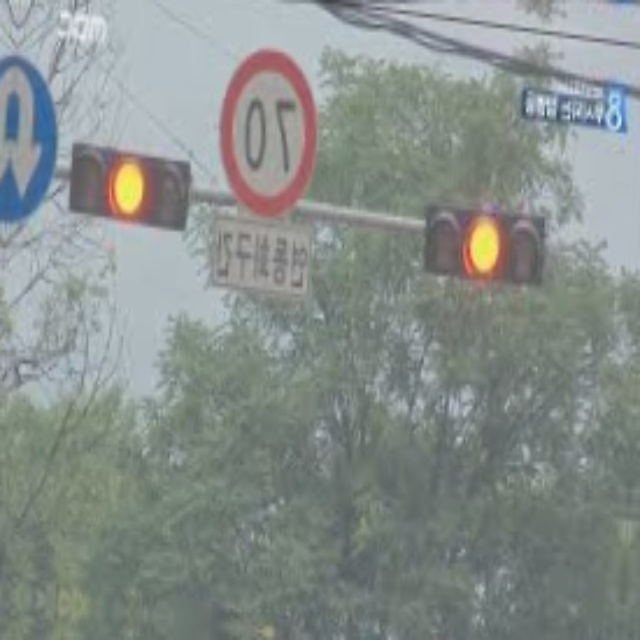yellow_light: (455, 215, 503, 283), (105, 158, 147, 216)
